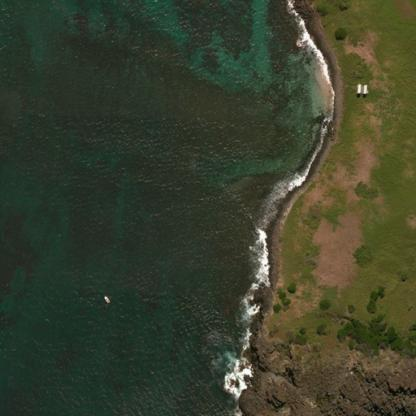ship: (102, 295, 107, 303)
